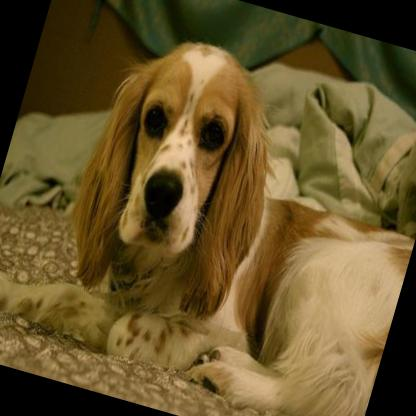cocker_spaniel: (0, 2, 416, 416)
